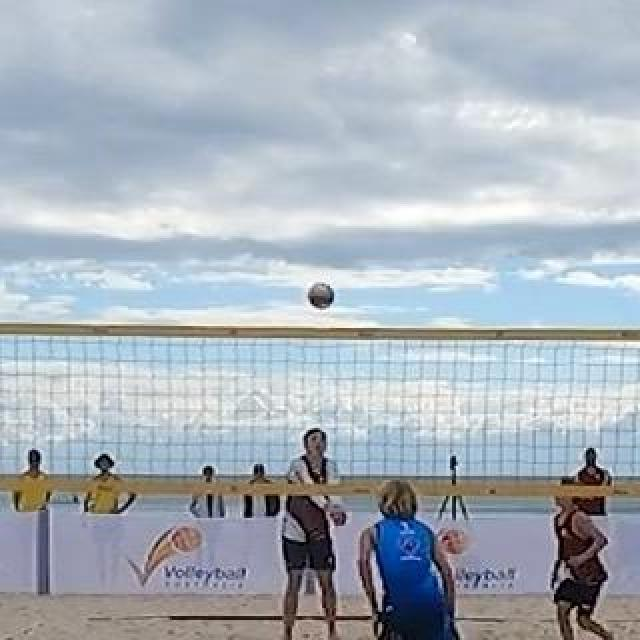volleyball: (307, 282, 333, 308)
